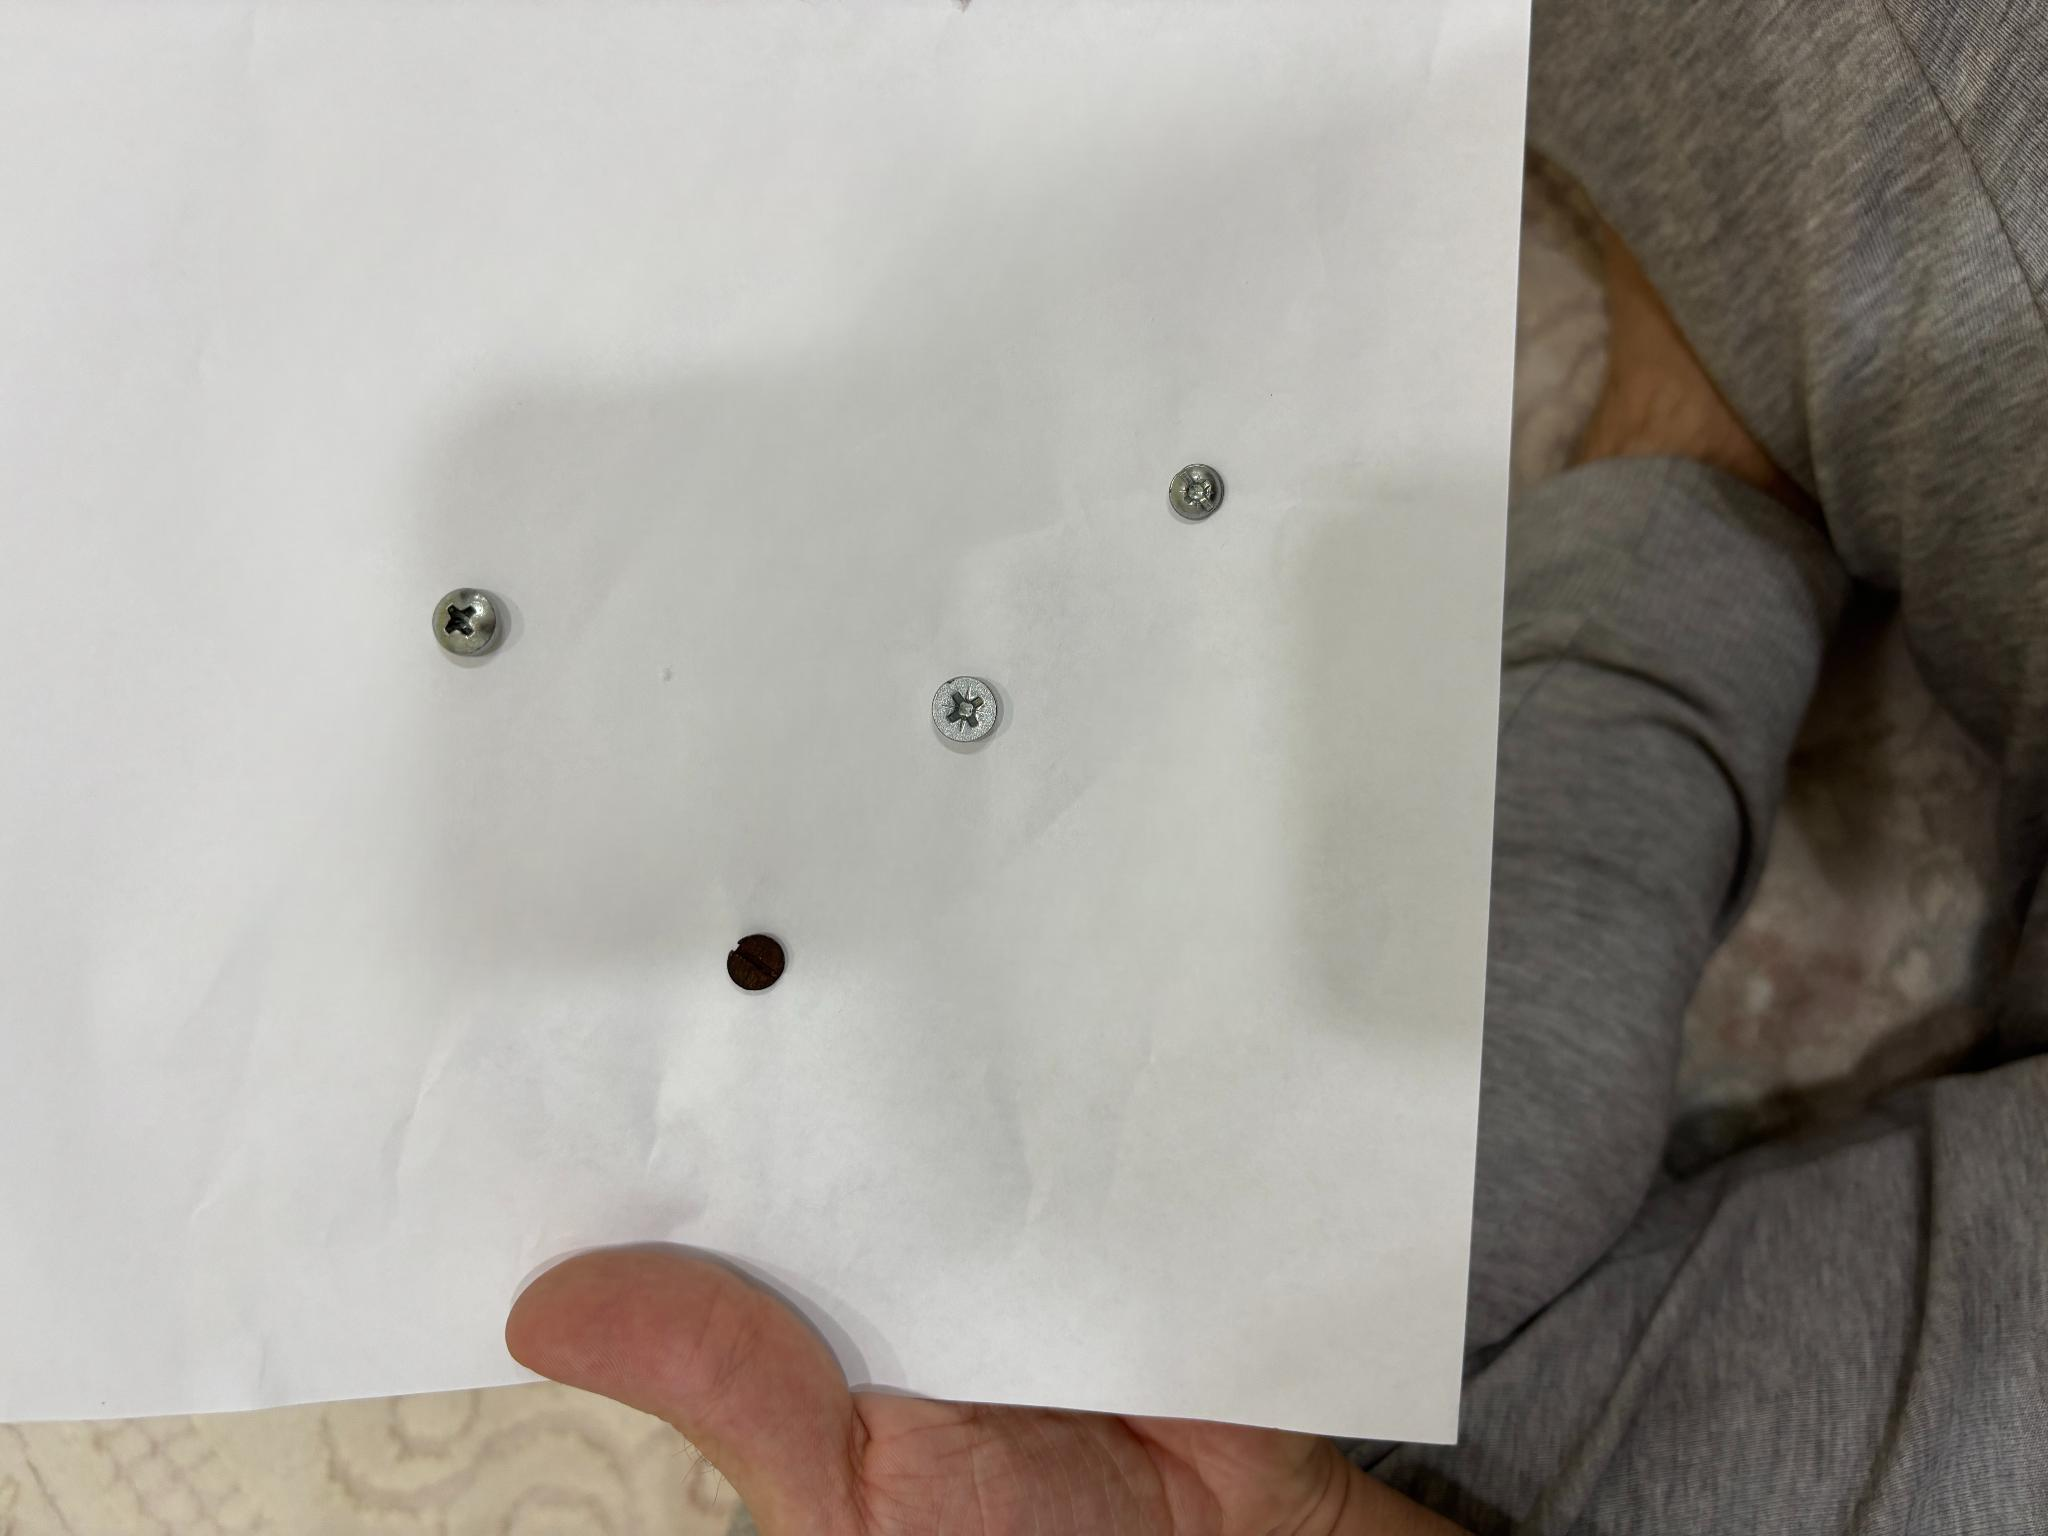PH: (434, 589, 500, 657)
PZ: (930, 676, 1000, 742), (1168, 463, 1226, 520)
SL: (727, 934, 785, 991)
